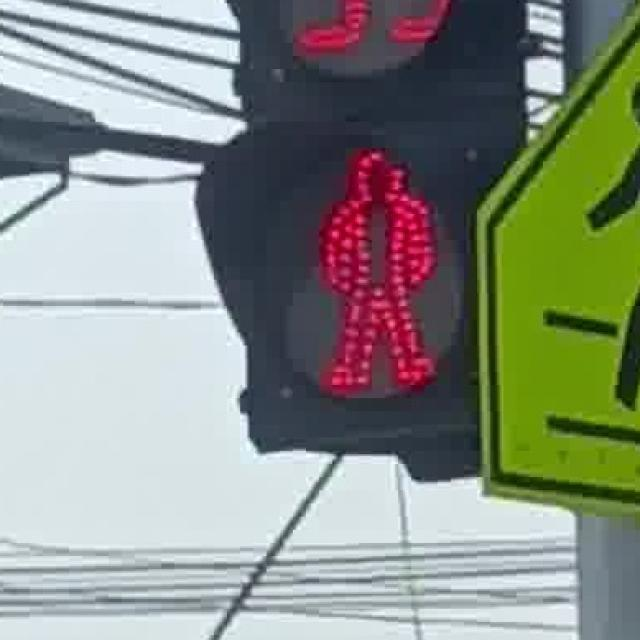red-crossing: (273, 128, 464, 412)
